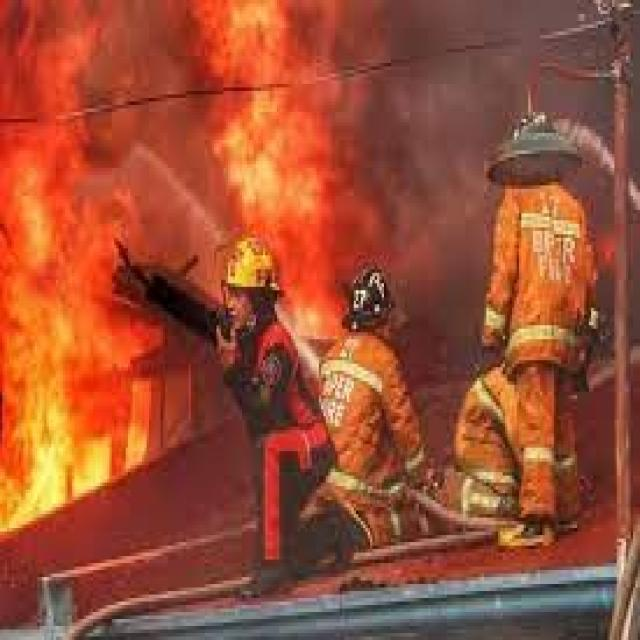Fire: (3, 334, 161, 564)
Smoke: (0, 5, 414, 282)
